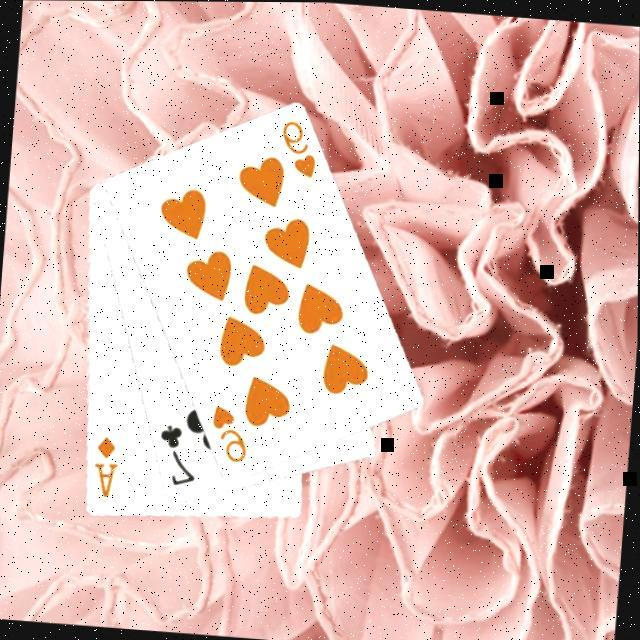7C: (152, 419, 200, 488)
9H: (204, 399, 252, 466), (274, 114, 320, 180)
AD: (87, 432, 122, 499)
